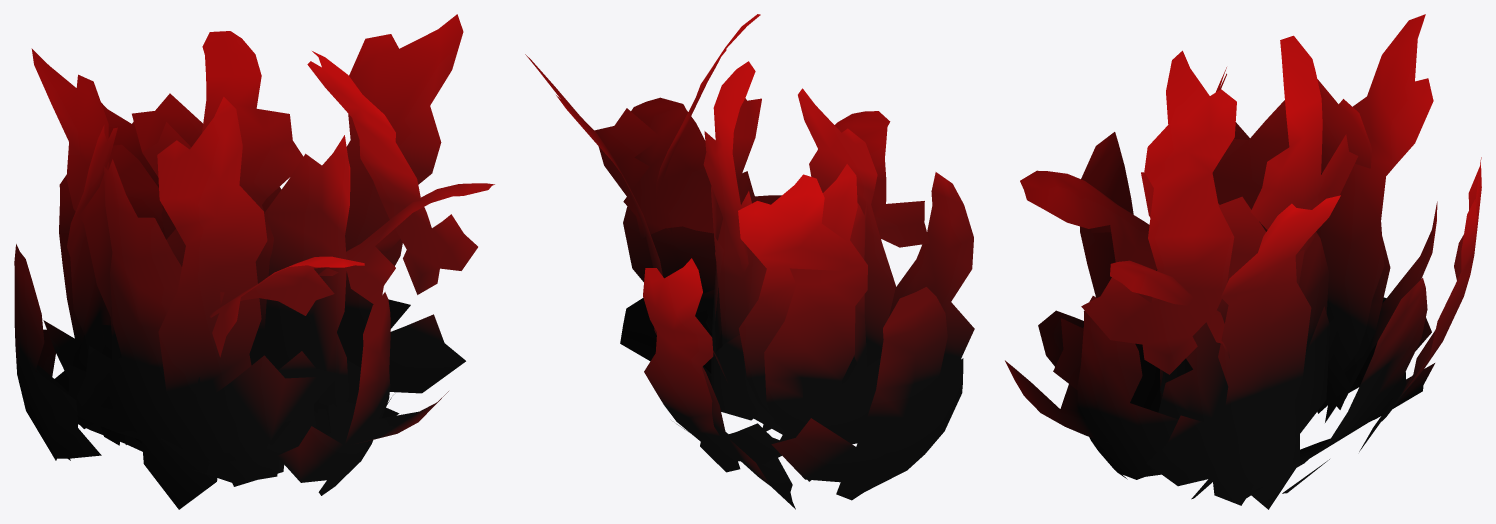
Rendered from SM_bush_01_dry_foliage_noLOD.FBX.
The picture shows the model from 3 angles, left to right: view 1: azimuth 30°, elevation 25°; view 2: azimuth 150°, elevation 25°; view 3: azimuth 270°, elevation 25°; orthographic projection. The views are drawn at different scales.
Parts seen in each view (by area): view 1: SM_bush_01_dry_foliage_noLOD; view 2: SM_bush_01_dry_foliage_noLOD; view 3: SM_bush_01_dry_foliage_noLOD.
Part boxes in pixels (left/top/right/bottom): SM_bush_01_dry_foliage_noLOD: left=14, top=14, right=494, bottom=509; SM_bush_01_dry_foliage_noLOD: left=525, top=14, right=974, bottom=509; SM_bush_01_dry_foliage_noLOD: left=1005, top=14, right=1481, bottom=509.
Bounding box in the file's own units: 92.99 × 84.22 × 88.1.
